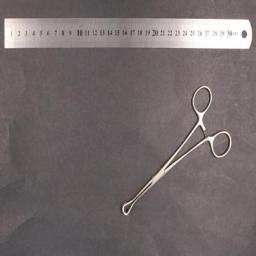Babcock Tissue Forceps: (122, 84, 234, 216)
